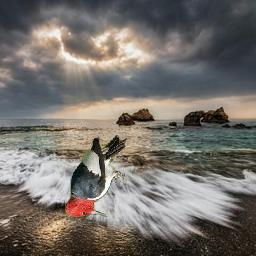Woodpecker: (66, 135, 129, 217)
